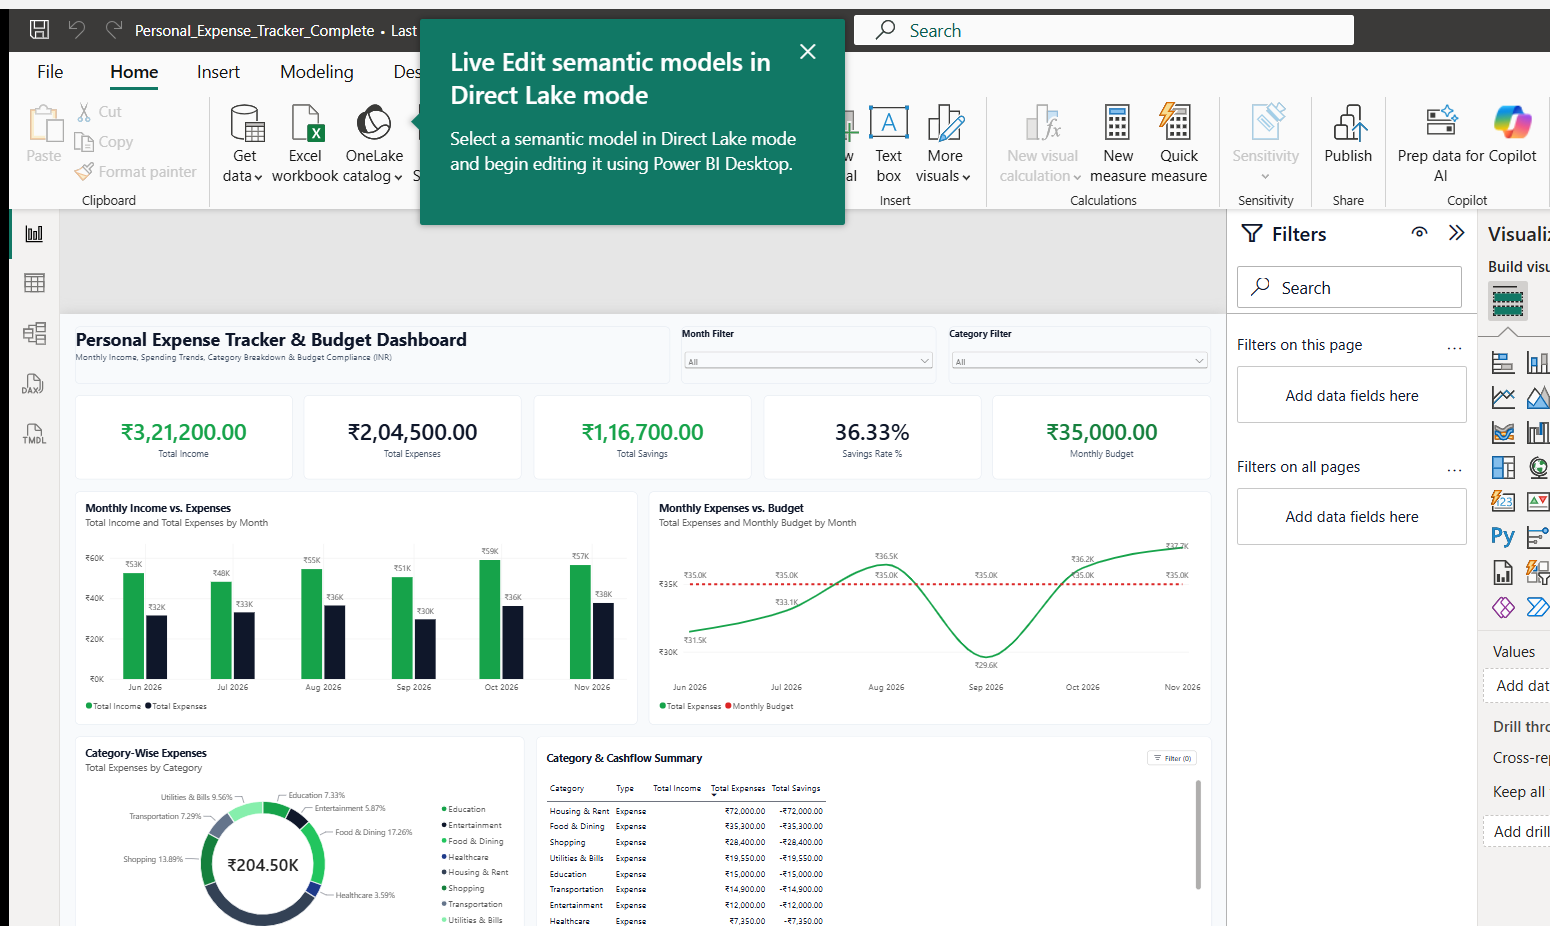

This screenshot's page, from the dashboard's own definition file:
{"tool":"powerbi","page":{"name":"Expense Overview","canvas":[1920,1080],"ordinal":0},"visuals":[{"type":"textbox","box":[24,20,980,94],"z":1000},{"type":"slicer","title":"Month Filter","fields":{"Values":["budget_targets.month_name"]},"box":[1024,20,420,94],"z":1100},{"type":"slicer","title":"Category Filter","fields":{"Values":["cleaned_transactions.category"]},"box":[1464,20,432,94],"z":1200},{"type":"card","fields":{"Values":["cleaned_transactions.Total Income"]},"box":[24,134,358,138],"z":1300},{"type":"card","fields":{"Values":["cleaned_transactions.Total Expenses"]},"box":[402,134,358,138],"z":1400},{"type":"card","fields":{"Values":["cleaned_transactions.Total Savings"]},"box":[780,134,358,138],"z":1500},{"type":"card","fields":{"Values":["cleaned_transactions.Savings Rate %"]},"box":[1158,134,358,138],"z":1600},{"type":"card","fields":{"Values":["cleaned_transactions.Monthly Budget"]},"box":[1536,134,360,138],"z":1700},{"type":"clusteredColumnChart","title":"Monthly Income vs. Expenses","fields":{"Category":["budget_targets.month_name"],"Y":["cleaned_transactions.Total Income","cleaned_transactions.Total Expenses"]},"box":[24,292,926,384],"z":1800},{"type":"lineChart","title":"Monthly Expenses vs. Budget","fields":{"Category":["budget_targets.month_name"],"Y":["cleaned_transactions.Total Expenses","cleaned_transactions.Monthly Budget"]},"box":[970,292,926,384],"z":1900},{"type":"donutChart","title":"Category-Wise Expenses","fields":{"Category":["cleaned_transactions.category"],"Y":["cleaned_transactions.Total Expenses"]},"box":[24,696,740,360],"z":2000},{"type":"tableEx","title":"Category & Cashflow Summary","fields":{"Values":["cleaned_transactions.category","cleaned_transactions.type","cleaned_transactions.Total Income","cleaned_transactions.Total Expenses","cleaned_transactions.Total Savings"]},"box":[784,696,1112,360],"z":2100}]}

Visuals, with their boxes on the page's 1920x1080 design canvas (x1, y1, x2, y2). These are canvas units, not pixel positions in the 1550x926 screenshot, which may show the page scaled, cropped or inside an application window:
textbox: <box>24,20,1004,114</box>
"Month Filter" slicer: <box>1024,20,1444,114</box>
"Category Filter" slicer: <box>1464,20,1896,114</box>
card - cleaned_transactions.Total Income: <box>24,134,382,272</box>
card - cleaned_transactions.Total Expenses: <box>402,134,760,272</box>
card - cleaned_transactions.Total Savings: <box>780,134,1138,272</box>
card - cleaned_transactions.Savings Rate %: <box>1158,134,1516,272</box>
card - cleaned_transactions.Monthly Budget: <box>1536,134,1896,272</box>
"Monthly Income vs. Expenses" clusteredColumnChart: <box>24,292,950,676</box>
"Monthly Expenses vs. Budget" lineChart: <box>970,292,1896,676</box>
"Category-Wise Expenses" donutChart: <box>24,696,764,1056</box>
"Category & Cashflow Summary" tableEx: <box>784,696,1896,1056</box>
